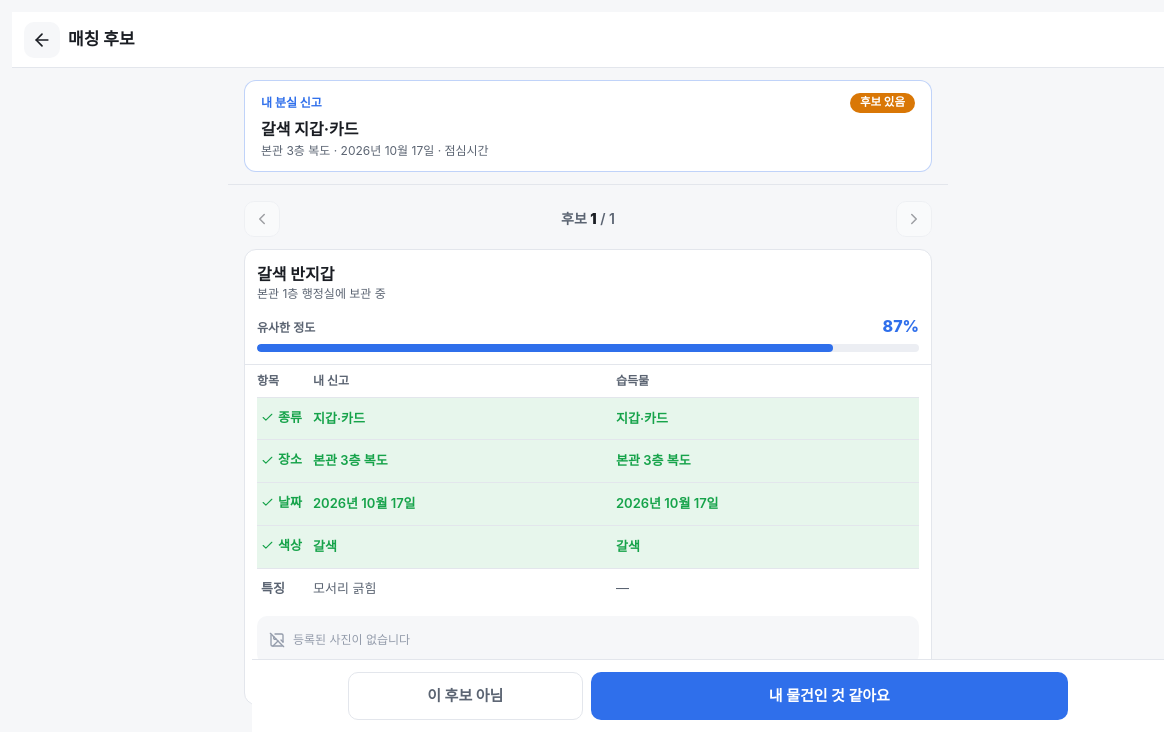
Test: MatchesPage › [내 물건인 것 같아요] — 수령 신청 후 그 물건의 상세로
This screenshot has width=1164, height=732.
Step 1. Click the button "내 물건인 것 같아요" → (829, 696), box [591,672,1068,720]
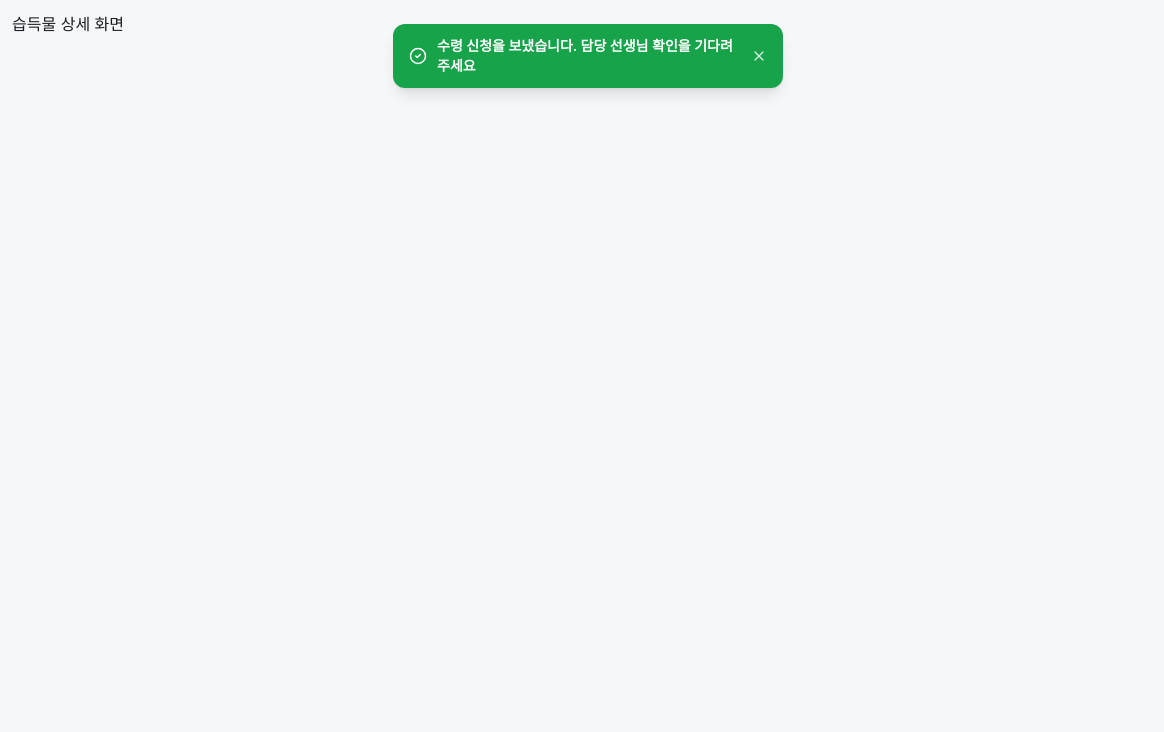
Now the text "습득물 상세 화면" is shown, box [12,14,124,34]
